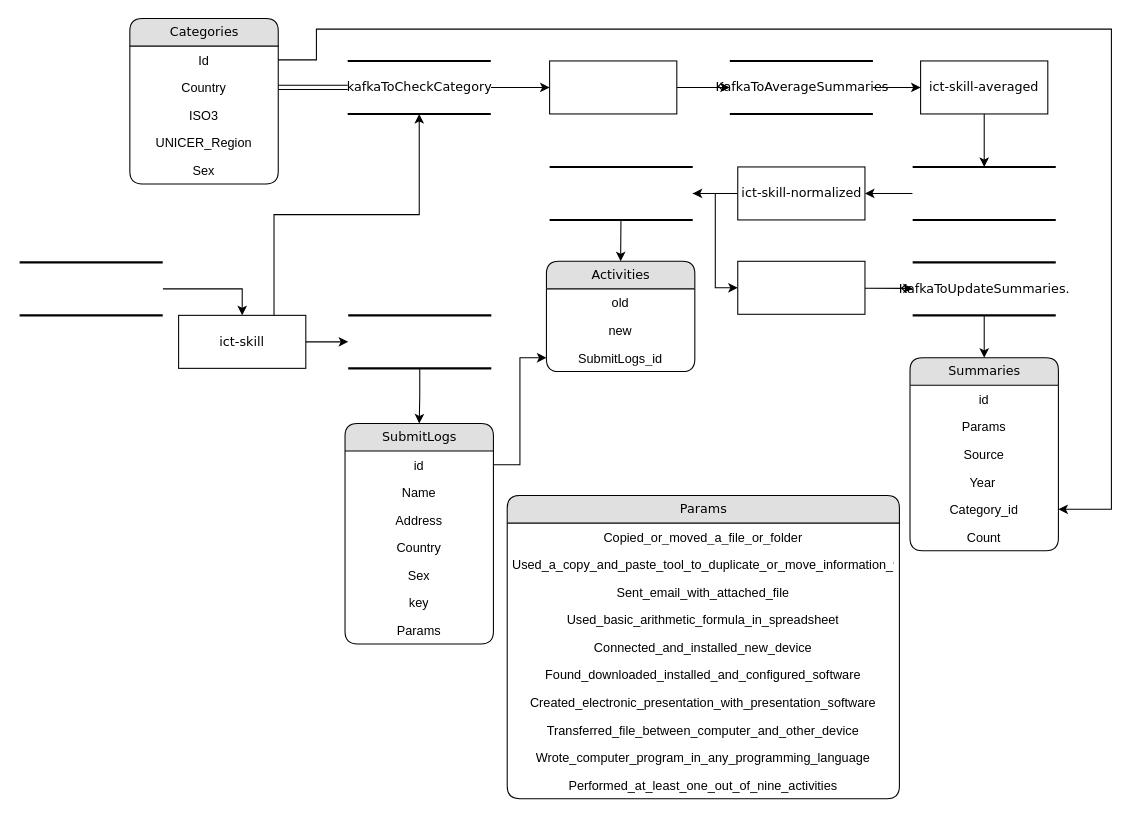
Some shapes in this 1138 by 820 pixel diagram are drawn without their labels. Each missing label, with the centre of its shape:
"ict-skill-activity" goes at pixel 801 287.
"ict-skill-checked" goes at pixel 613 87.
"kafkaToDataLake" goes at pixel 419 341.
"KafkaToNormalizeSummariesValue" goes at pixel 983 192.
"KafkaToSavedActivitySummaries" goes at pixel 620 192.
"Produce Ingestion" goes at pixel 90 288.
